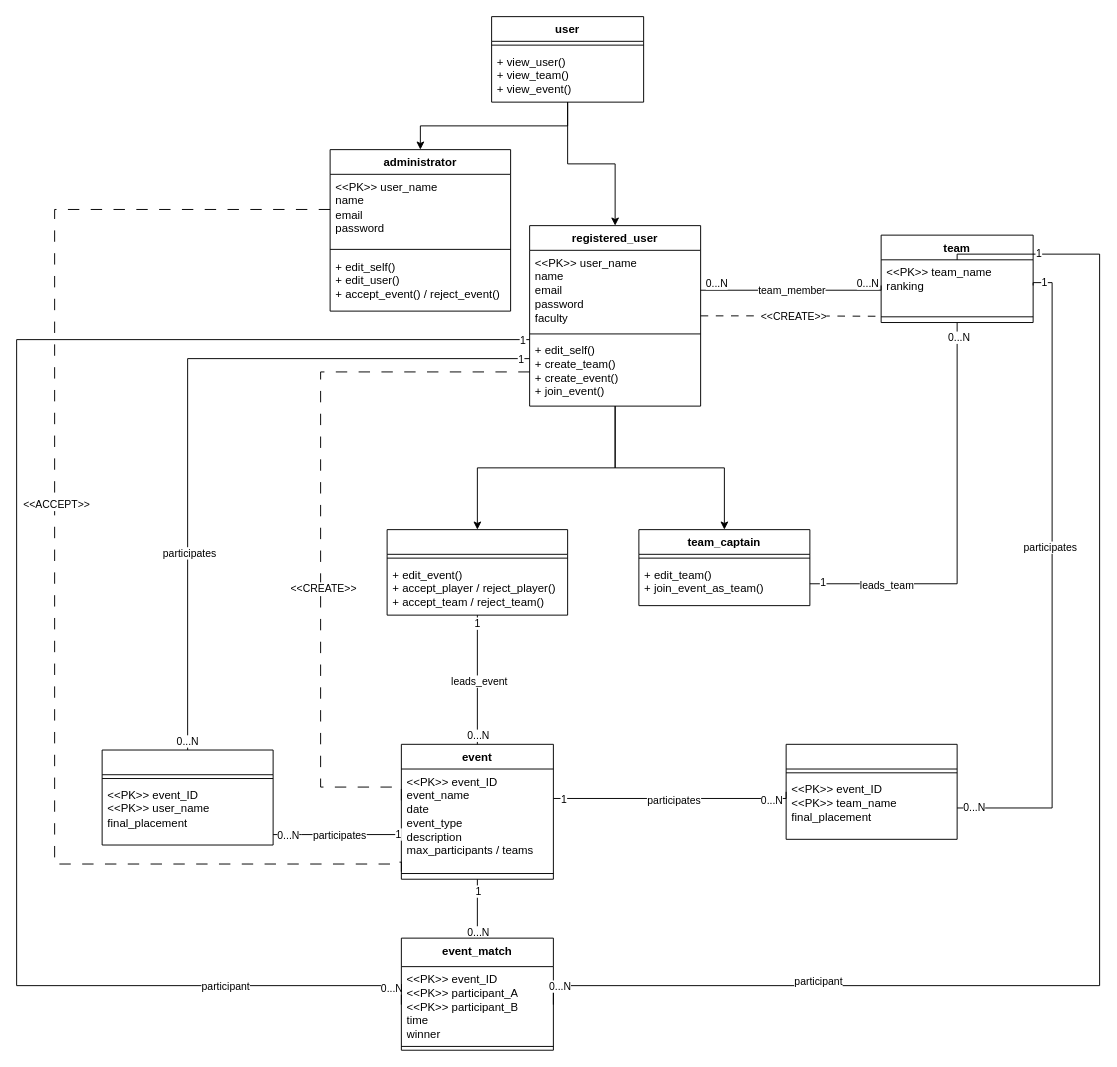
This 1117x1067 diagram has some shape labels left out. The shapes that lost their labels are listed below. From the top down, each one's box as (x1, y1, x2, y2) in pixels, then its label:
(386, 529, 568, 615): event_organiser
(101, 749, 273, 845): player_participant
(785, 743, 957, 839): team_participation
